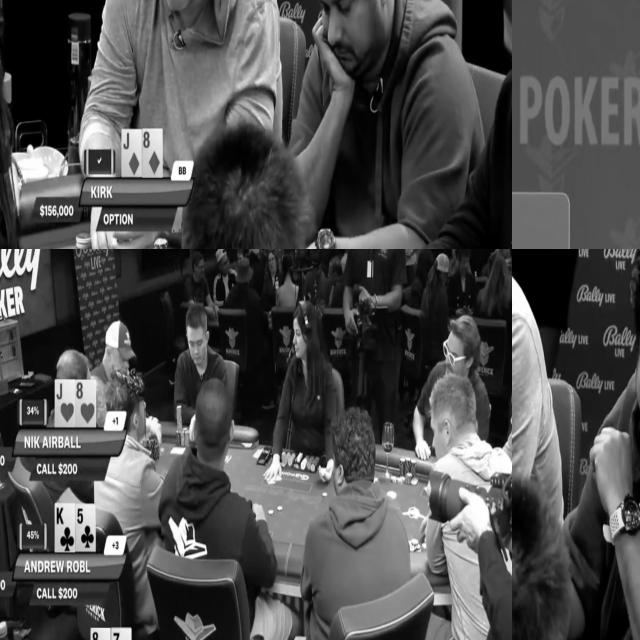5C: (75, 503, 96, 553)
7S: (110, 627, 130, 640)
8C: (91, 628, 111, 640)
8D: (142, 129, 162, 178)
8H: (75, 380, 96, 427)
JD: (122, 130, 142, 176)
JH: (56, 380, 76, 427)
KC: (55, 503, 75, 552)
